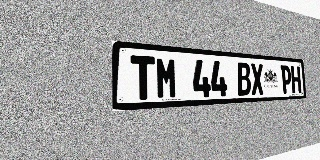4: (192, 59, 211, 98), (210, 60, 227, 97)
B: (237, 62, 251, 96)
H: (291, 66, 301, 93)
M: (155, 57, 178, 99)
P: (281, 65, 292, 94)
T: (130, 55, 155, 100)
X: (250, 63, 264, 95)
